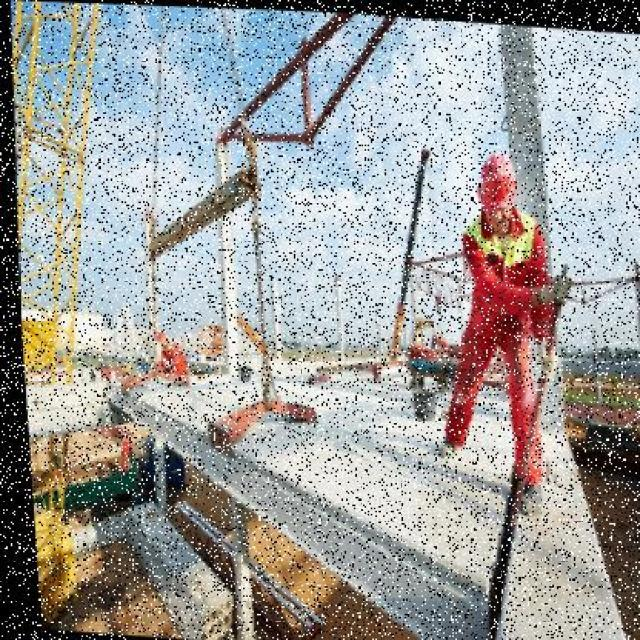helmet: (468, 149, 522, 213)
vest: (451, 216, 559, 359)
